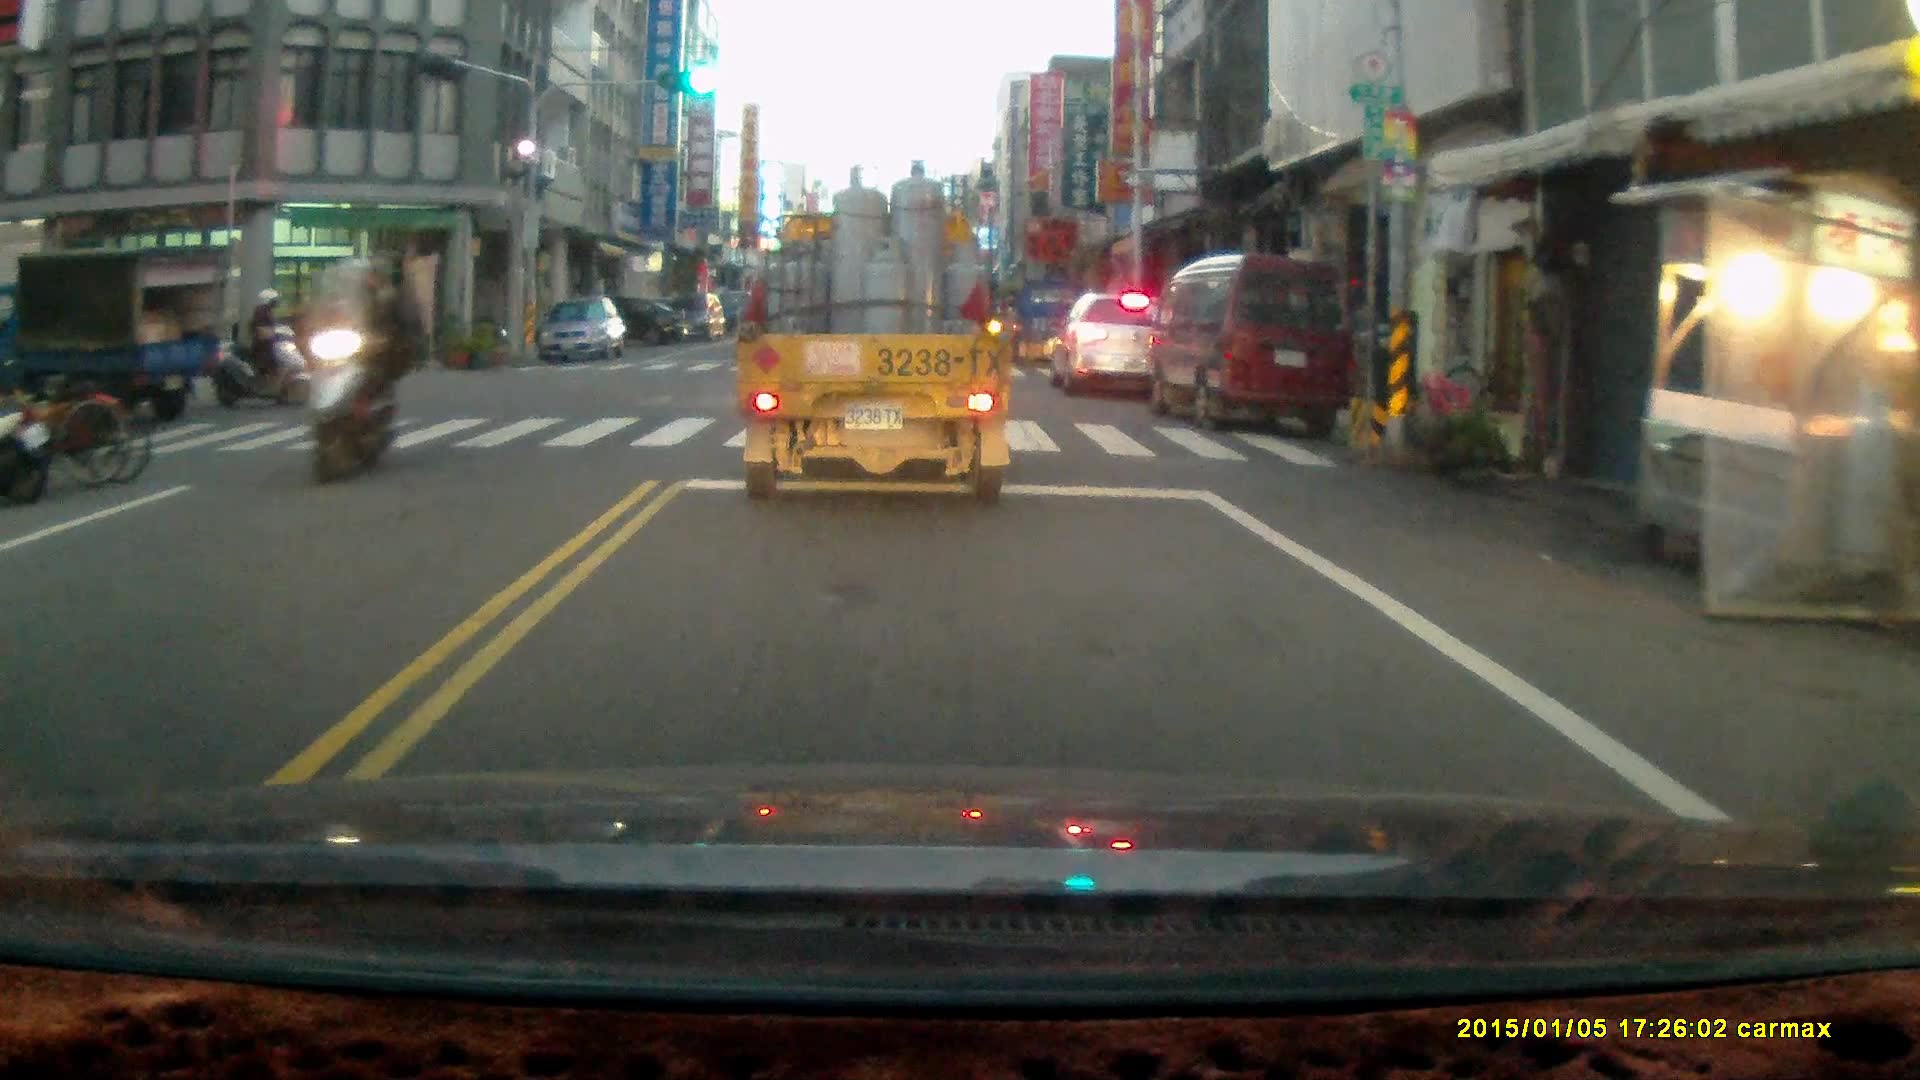rider: (303, 250, 417, 478), (209, 285, 312, 408)
vehicle: (739, 167, 1015, 507), (1147, 255, 1361, 435), (1, 247, 215, 427), (1045, 290, 1184, 404), (564, 299, 688, 358), (539, 296, 631, 363), (646, 292, 727, 342)
